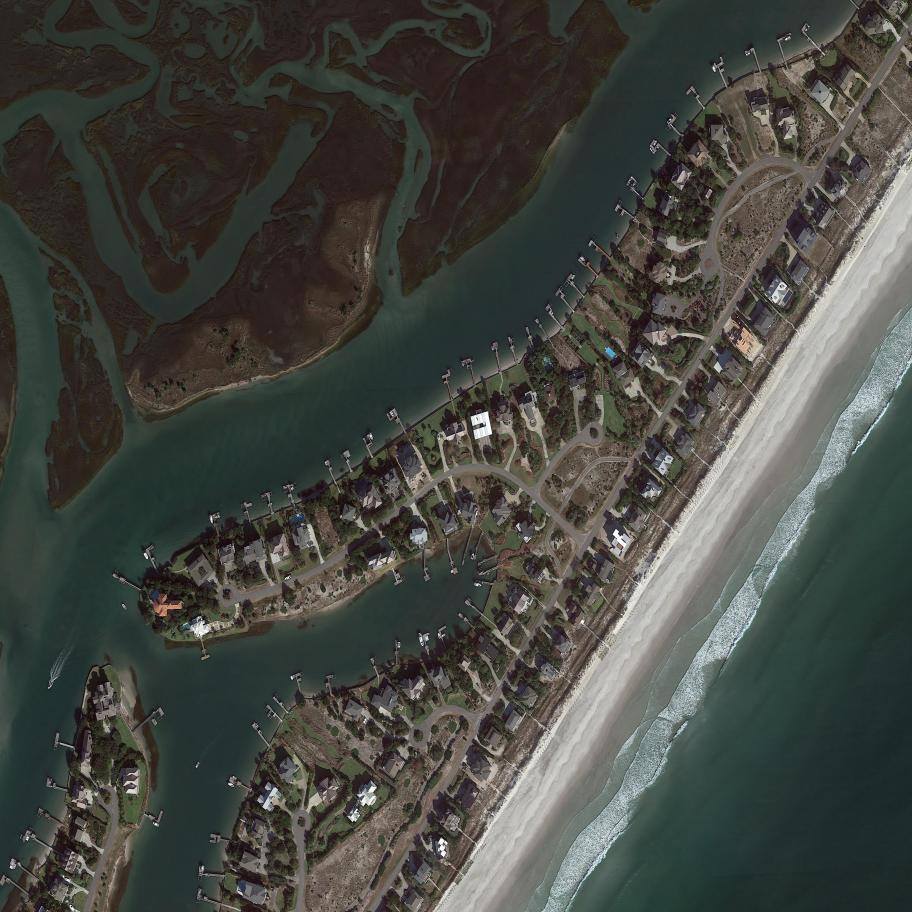ship: (418, 633, 425, 647), (142, 550, 150, 561), (284, 574, 293, 582), (121, 602, 128, 611), (649, 147, 656, 155), (710, 64, 717, 72), (368, 432, 375, 440), (151, 822, 160, 828), (209, 514, 214, 524), (579, 255, 586, 262), (666, 118, 673, 125), (804, 25, 811, 32), (570, 274, 576, 281), (784, 36, 791, 42), (474, 582, 482, 587), (653, 139, 658, 147), (470, 552, 475, 560), (457, 508, 462, 516), (436, 433, 441, 441), (195, 761, 200, 769), (227, 783, 235, 788), (390, 410, 395, 417), (414, 751, 418, 759), (290, 483, 294, 491), (232, 775, 238, 780), (215, 514, 221, 519), (461, 360, 465, 367), (437, 632, 441, 639), (48, 683, 52, 690), (48, 778, 52, 785), (13, 863, 17, 870), (441, 633, 446, 638), (398, 641, 401, 649), (745, 52, 751, 56), (201, 866, 204, 873), (324, 461, 327, 466)
small-vehicle: (462, 736, 468, 741), (885, 20, 891, 25), (419, 480, 425, 485), (477, 683, 481, 690), (468, 762, 474, 766), (623, 503, 627, 509), (541, 658, 545, 663), (626, 504, 629, 509), (430, 837, 432, 843)
